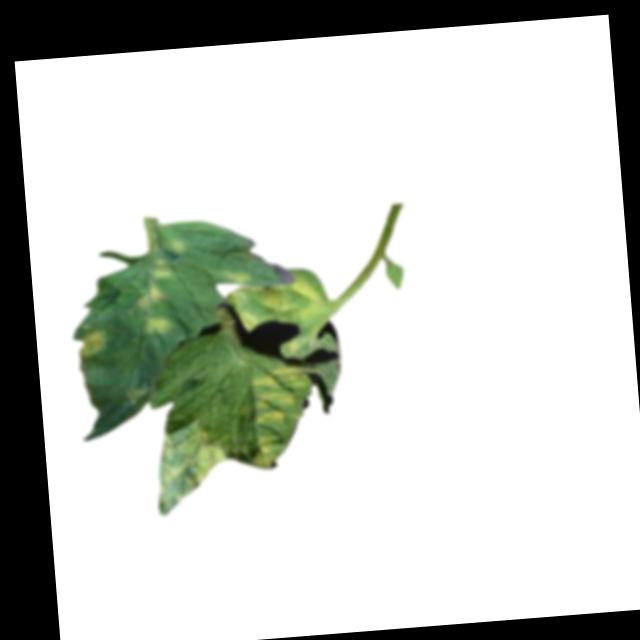Leaf_Mold: (153, 422, 234, 518), (248, 363, 321, 469), (225, 260, 330, 333), (133, 233, 188, 338), (77, 328, 111, 362)
